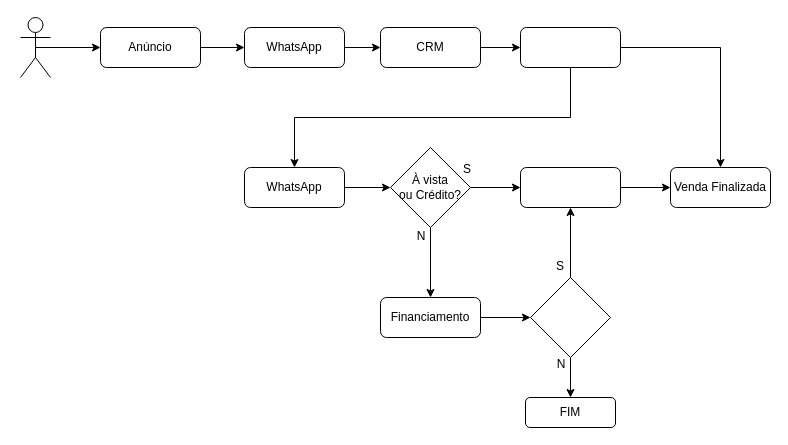
This 788x445 diagram has some shape labels left out. Here are the shapes that lost their labels. From the top down, the box of each, then its label:
(20, 16, 50, 78): Cliente
(520, 26, 620, 68): Vendedora
(520, 166, 620, 208): Venda
(530, 276, 610, 358): Aprovado?
